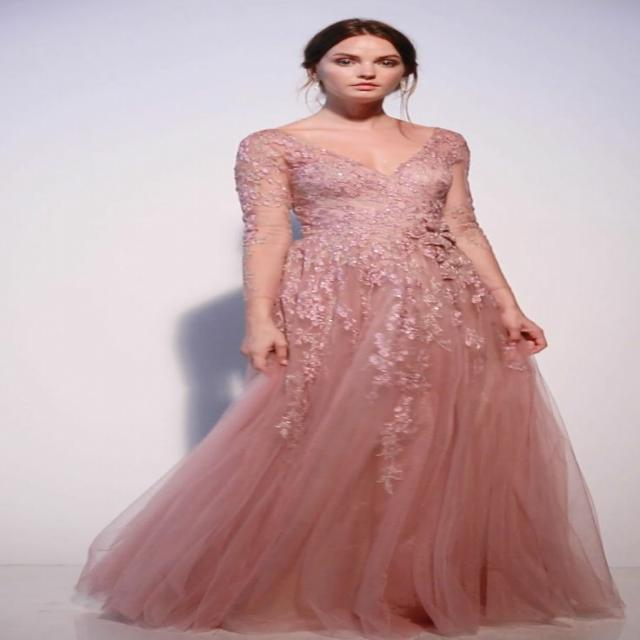female-dress: (187, 111, 596, 624)
